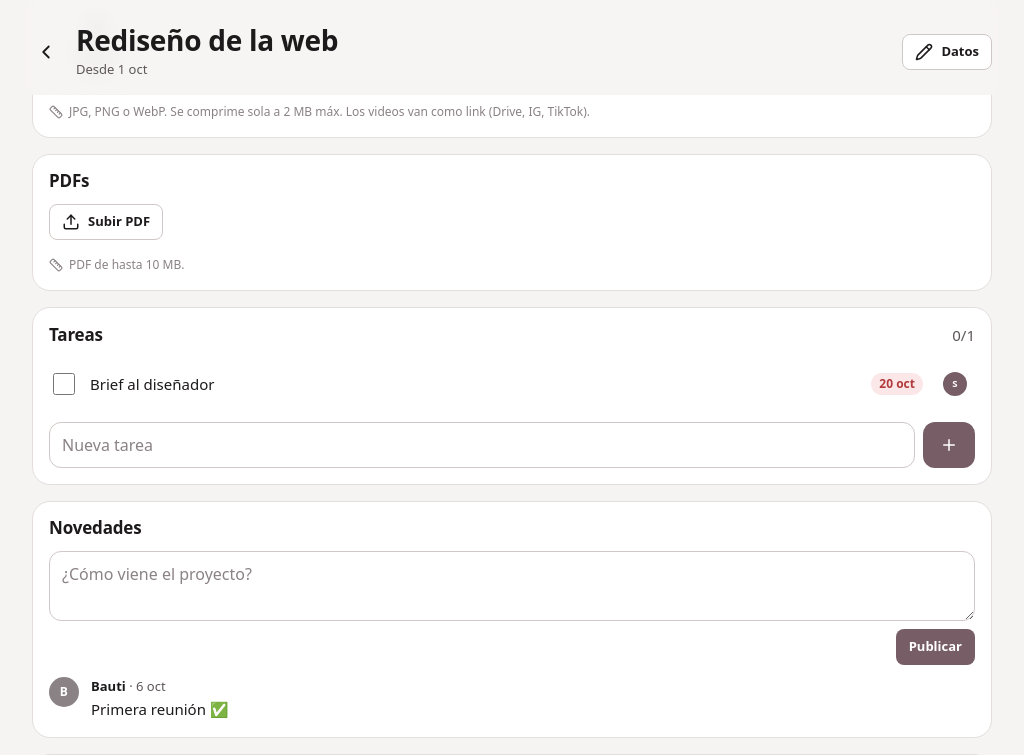
Test: proyectos › asignar: los usuarios que llegan tarde igual se pueden elegir
This screenshot has width=1024, height=755.
(page scrolled)
Step 1. Click the button named "Asignar" → (955, 384), box [935,364,975,404]
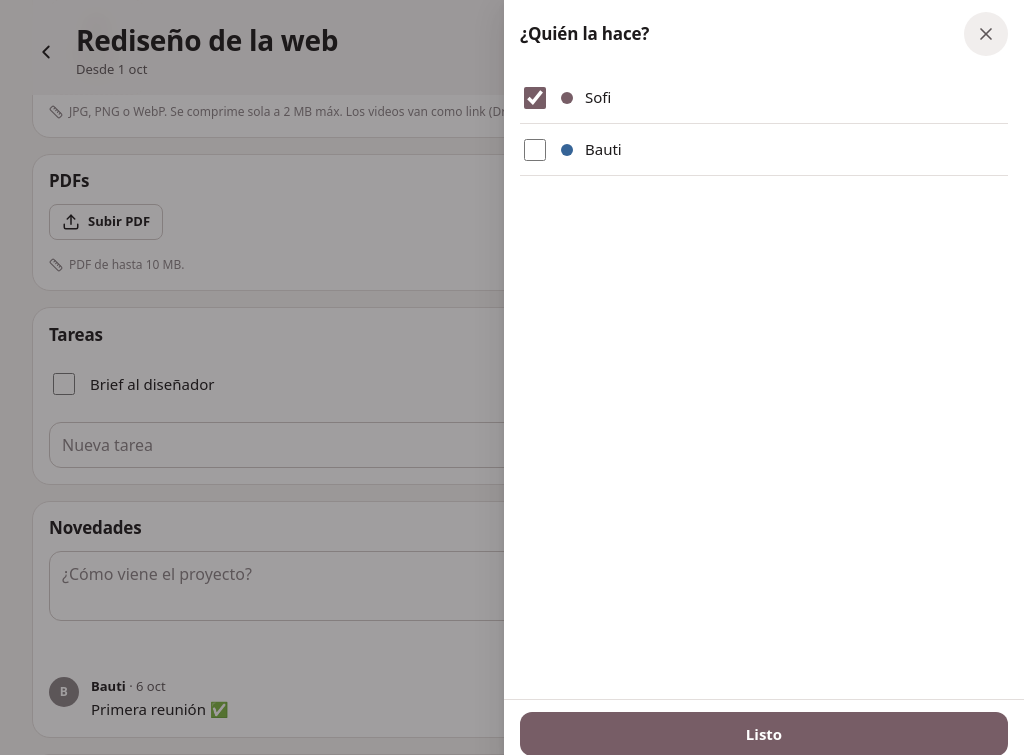
Expected: the checkbox labelled "Bauti" is shown, [524,138,546,160]
